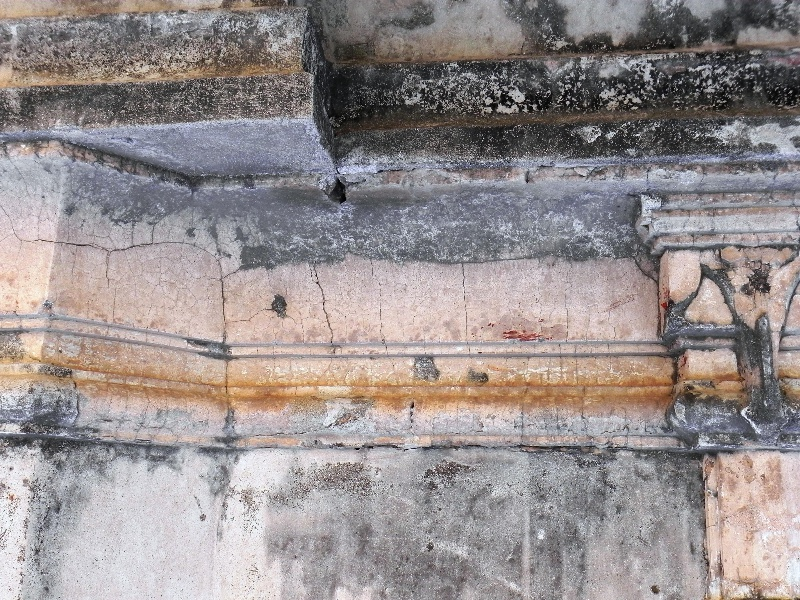Spalling: (406, 347, 445, 388)
